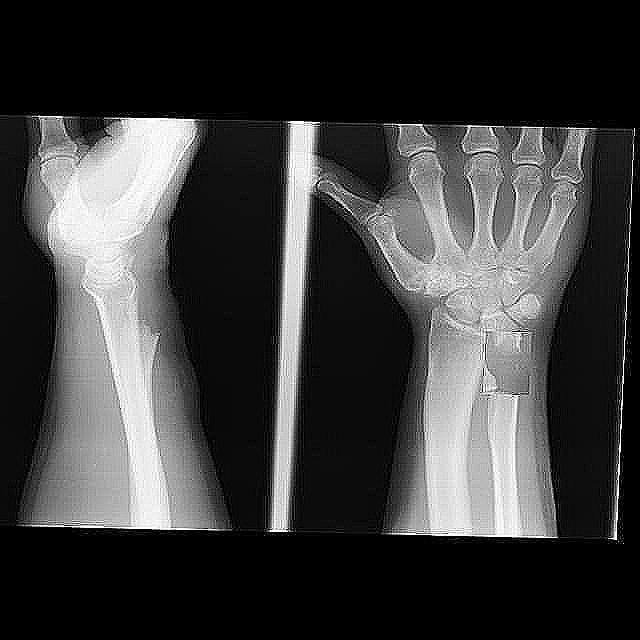bone: (486, 328, 534, 392)
